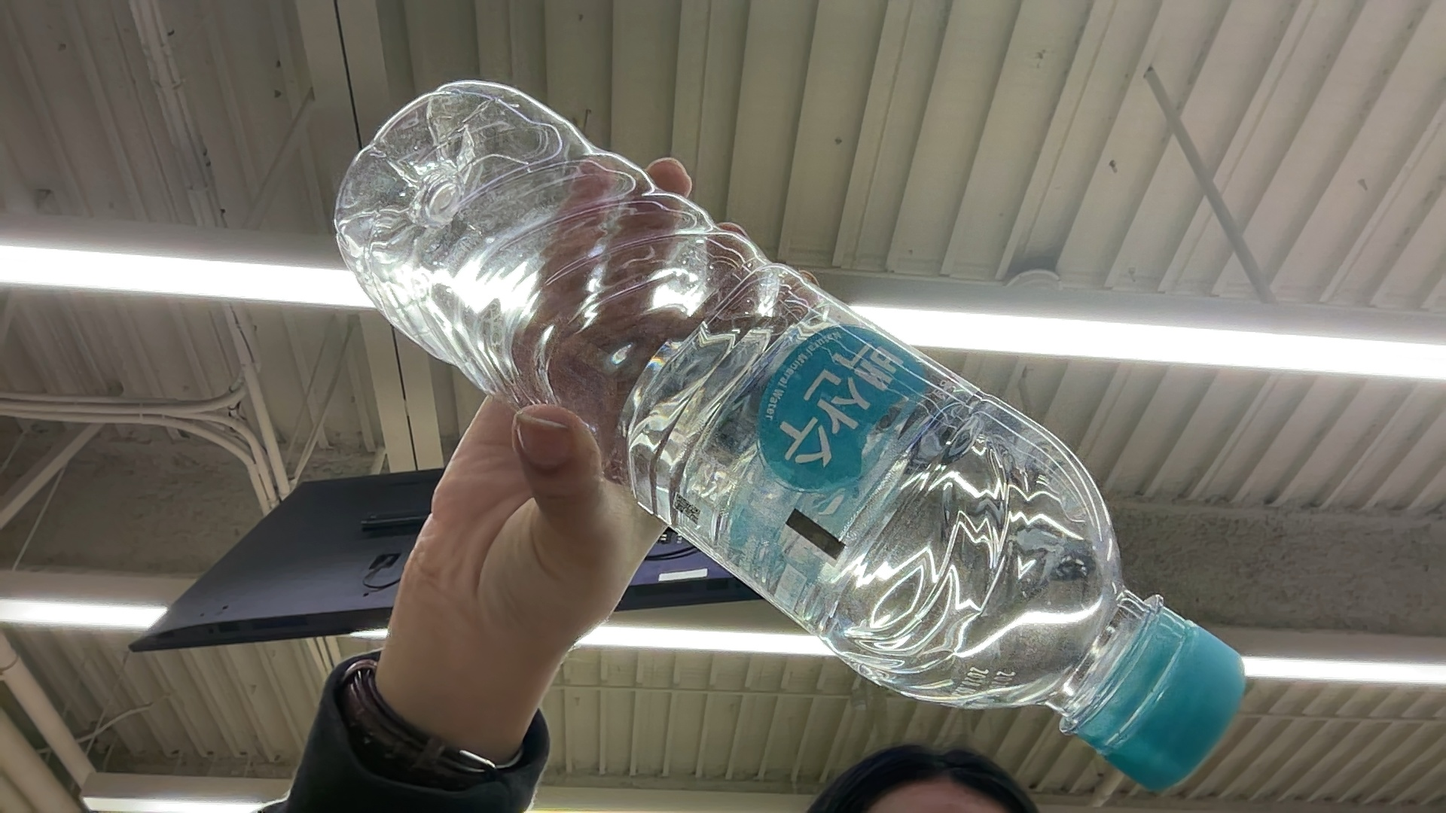Plastic: (318, 76, 1185, 784)
